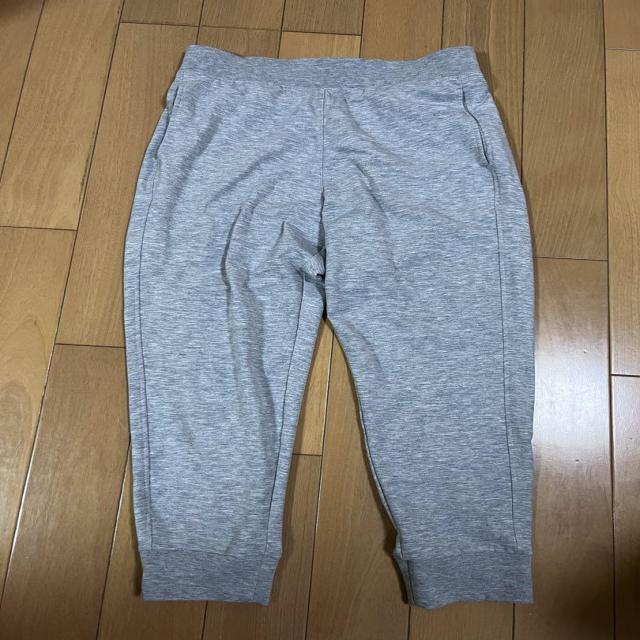long-pants: (120, 40, 536, 610)
